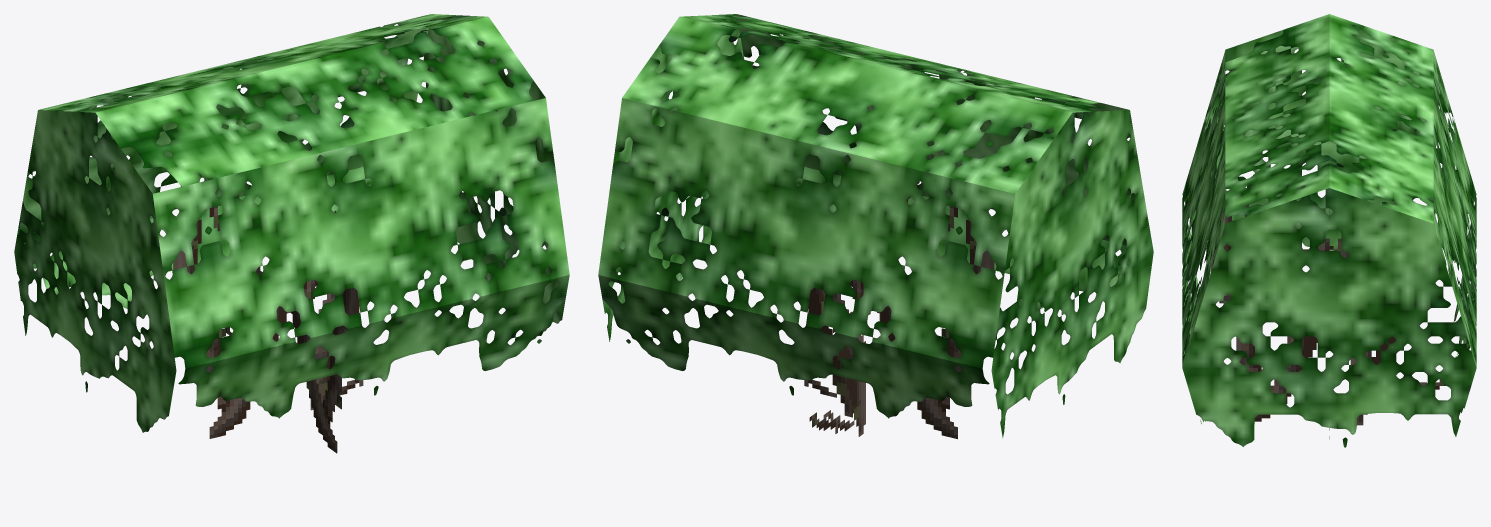
The model's file is bush_long_half_roots_spring.fbx.
The picture shows the model from 3 angles, left to right: view 1: azimuth 30°, elevation 25°; view 2: azimuth 150°, elevation 25°; view 3: azimuth 270°, elevation 25°; orthographic projection. The views are drawn at different scales.
Parts seen in each view (by area): view 1: bush_long_half_roots_spring; view 2: bush_long_half_roots_spring; view 3: bush_long_half_roots_spring.
Boxes of the visible parts, x1=… form: bush_long_half_roots_spring: x1=14, y1=14, x2=569, y2=453; bush_long_half_roots_spring: x1=598, y1=14, x2=1153, y2=439; bush_long_half_roots_spring: x1=1182, y1=14, x2=1476, y2=447.
Bounding box in the file's own units: 101 × 87.65 × 71.91.
Materials: 2 (2 with a texture image).
